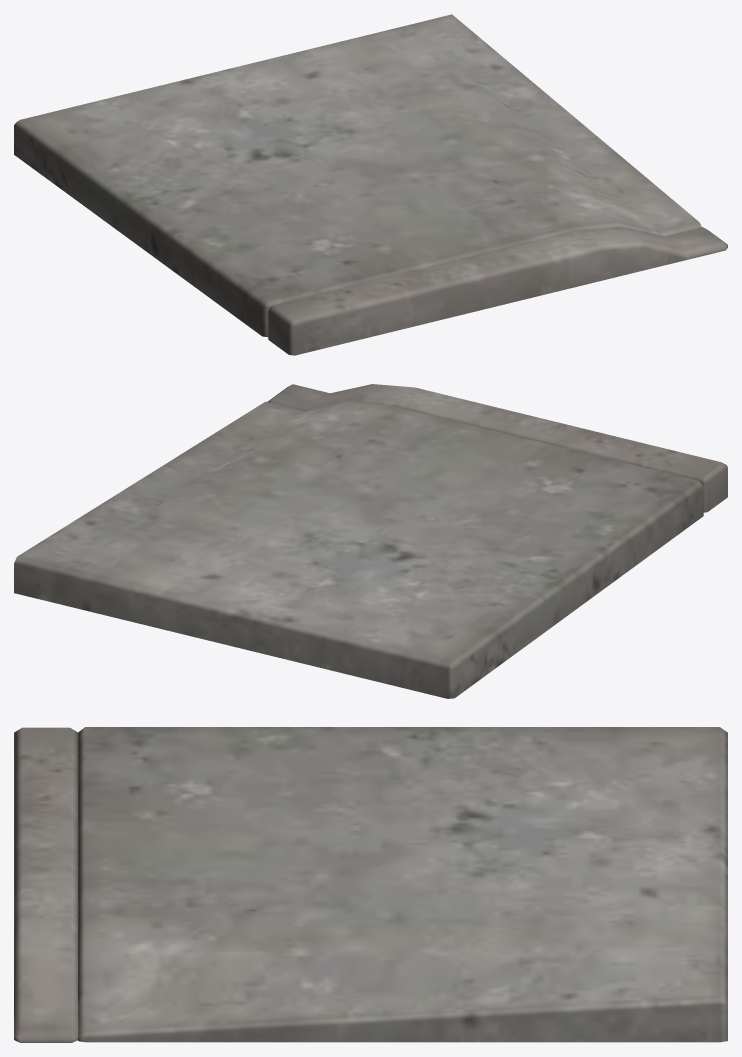
The model's file is SidewalkDrivewayLeft.glb.
The picture shows the model from 3 angles, top to bottom: view 1: azimuth 30°, elevation 25°; view 2: azimuth 150°, elevation 25°; view 3: azimuth 270°, elevation 25°; orthographic projection. The views are drawn at different scales.
Parts seen in each view (by area): view 1: SidewalkDrivewayLeftCurb_SidewalkMat_0; view 2: SidewalkDrivewayLeftCurb_SidewalkMat_0; view 3: SidewalkDrivewayLeftCurb_SidewalkMat_0.
Boxes of the visible parts, x1,y1,x2,y2 form: SidewalkDrivewayLeftCurb_SidewalkMat_0: (14,14,727,355); SidewalkDrivewayLeftCurb_SidewalkMat_0: (14,384,727,698); SidewalkDrivewayLeftCurb_SidewalkMat_0: (14,727,727,1042).
Bounding box in the file's own units: 2.01 × 0.1494 × 2.21.
1 material, 1 textured.
